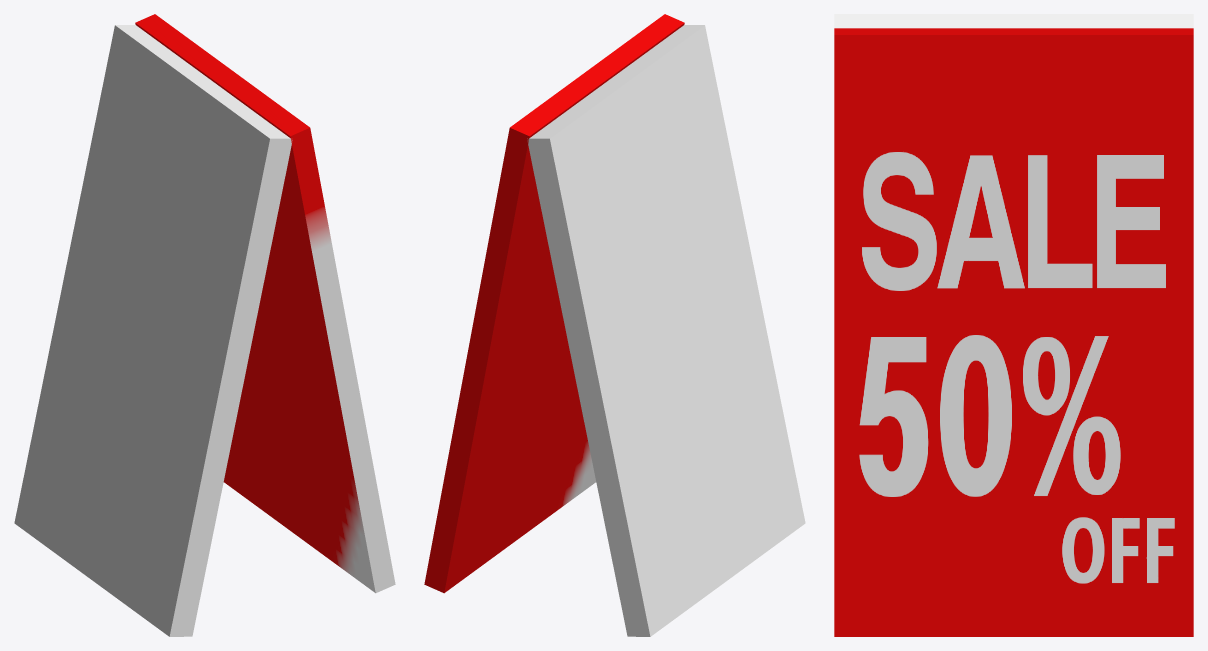
File: sale.fbx
The picture shows the model from 3 angles, left to right: view 1: azimuth 30°, elevation 25°; view 2: azimuth 150°, elevation 25°; view 3: azimuth 270°, elevation 25°; orthographic projection. The views are drawn at different scales.
Parts seen in each view (by area): view 1: Cube.002, Cube.001; view 2: Cube.002, Cube.001; view 3: Cube.001, Cube.002.
Part boxes in pixels (x1,y1,x2,y2): Cube.002: (14, 25, 292, 636); Cube.001: (135, 14, 395, 593); Cube.002: (527, 25, 805, 636); Cube.001: (424, 14, 684, 593); Cube.001: (834, 28, 1193, 636); Cube.002: (834, 14, 1193, 28).
Bounding box in the file's own units: 32.78 × 66.75 × 38.98.
